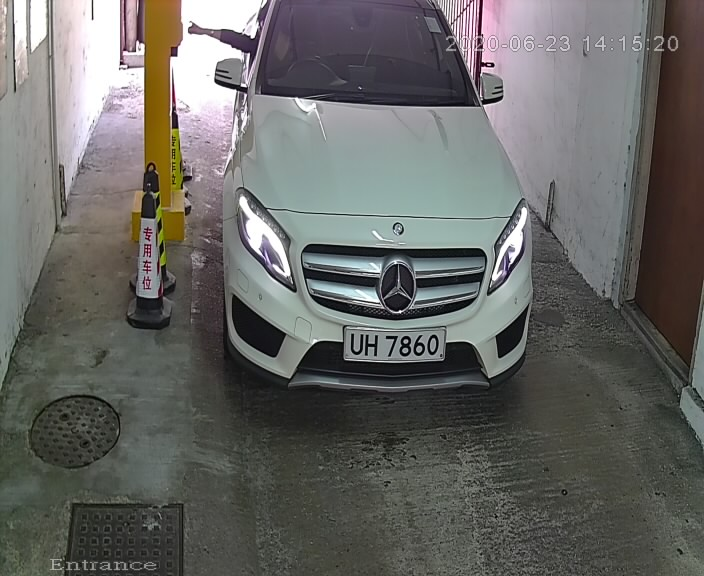privatecar: (202, 2, 547, 424)
